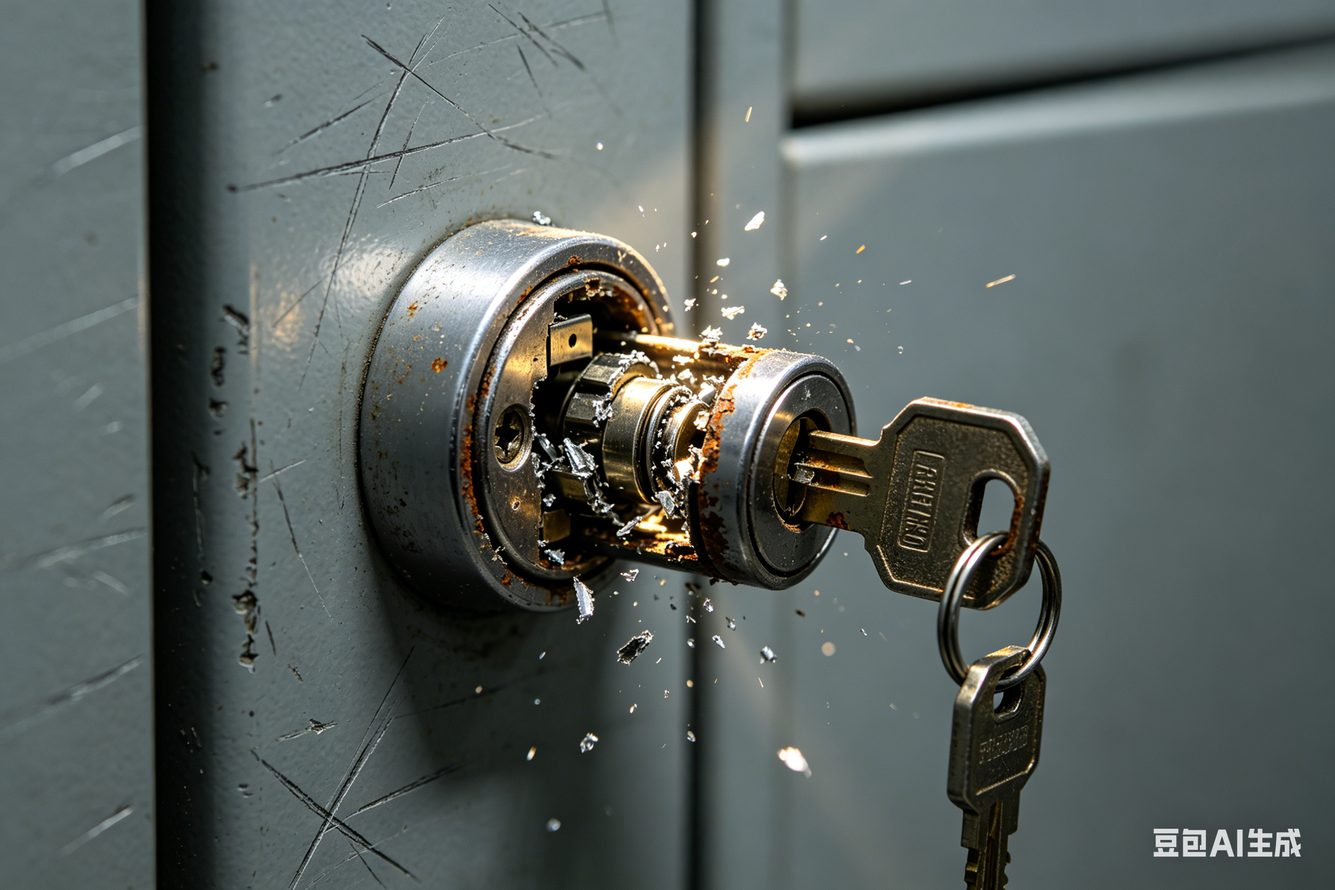BadLock: (553, 317, 727, 566)
